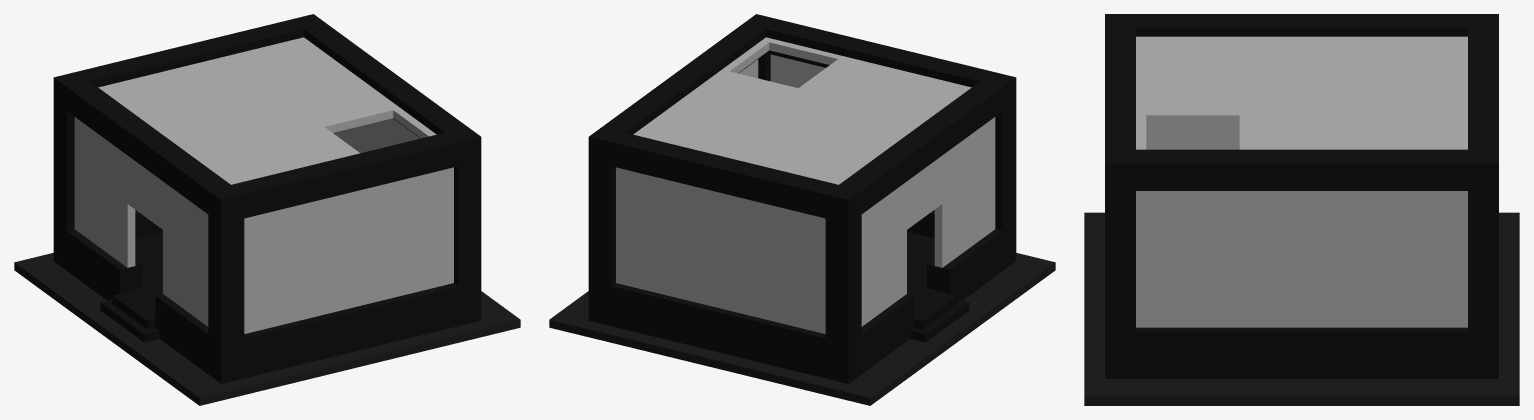
The model's file is basic_building_1.FBX.
The picture shows the model from 3 angles, left to right: view 1: azimuth 30°, elevation 25°; view 2: azimuth 150°, elevation 25°; view 3: azimuth 270°, elevation 25°; orthographic projection. The views are drawn at different scales.
Visible parts, largest first — view 1: default; view 2: default; view 3: default.
Boxes of the visible parts, x1,y1,x2,y2 form: default: (14,14,520,405); default: (549,14,1055,405); default: (1084,14,1519,405).
Bounding box in the file's own units: 42 × 24 × 42.
